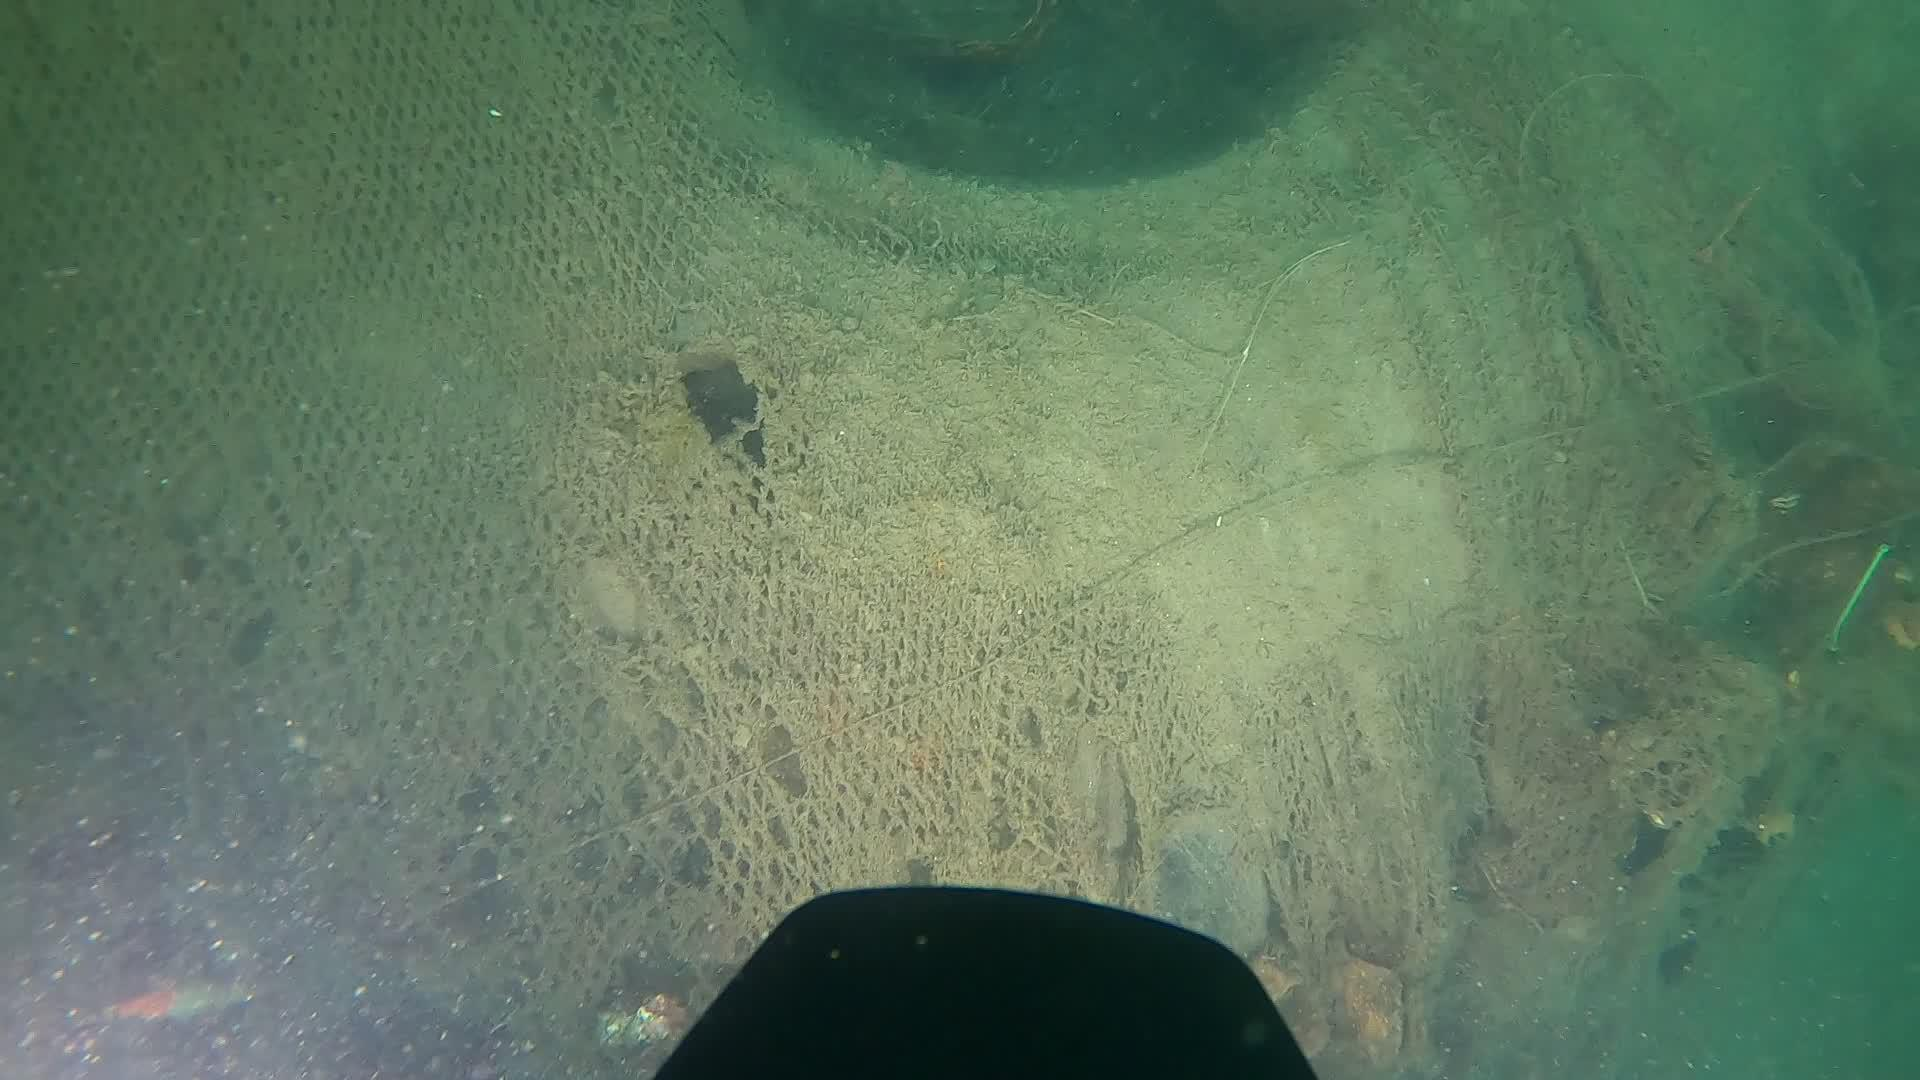fish net: (0, 0, 1189, 1014), (1251, 0, 1758, 944)
tire: (744, 3, 1820, 754)
